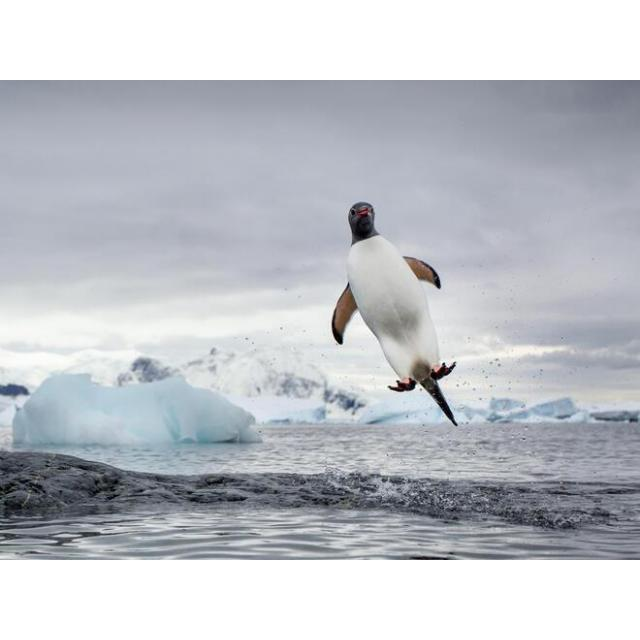penguin: (332, 201, 461, 428)
